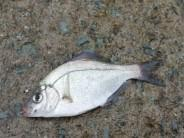fish: (22, 52, 164, 118)
